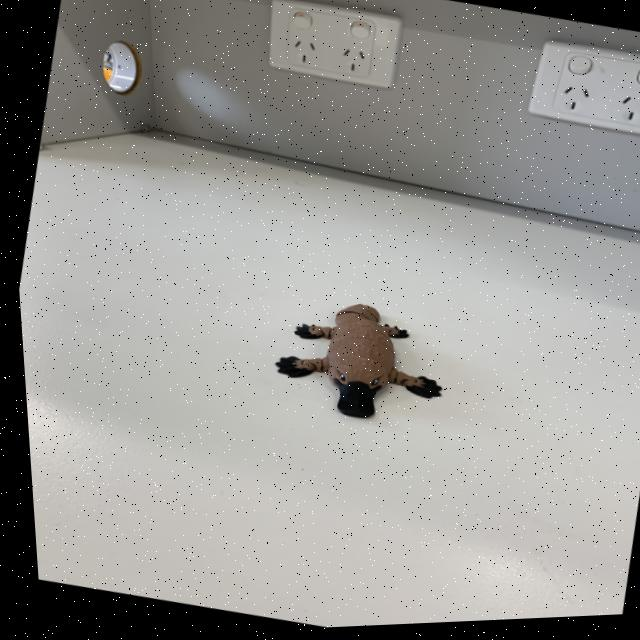platypus: (260, 279, 465, 442)
